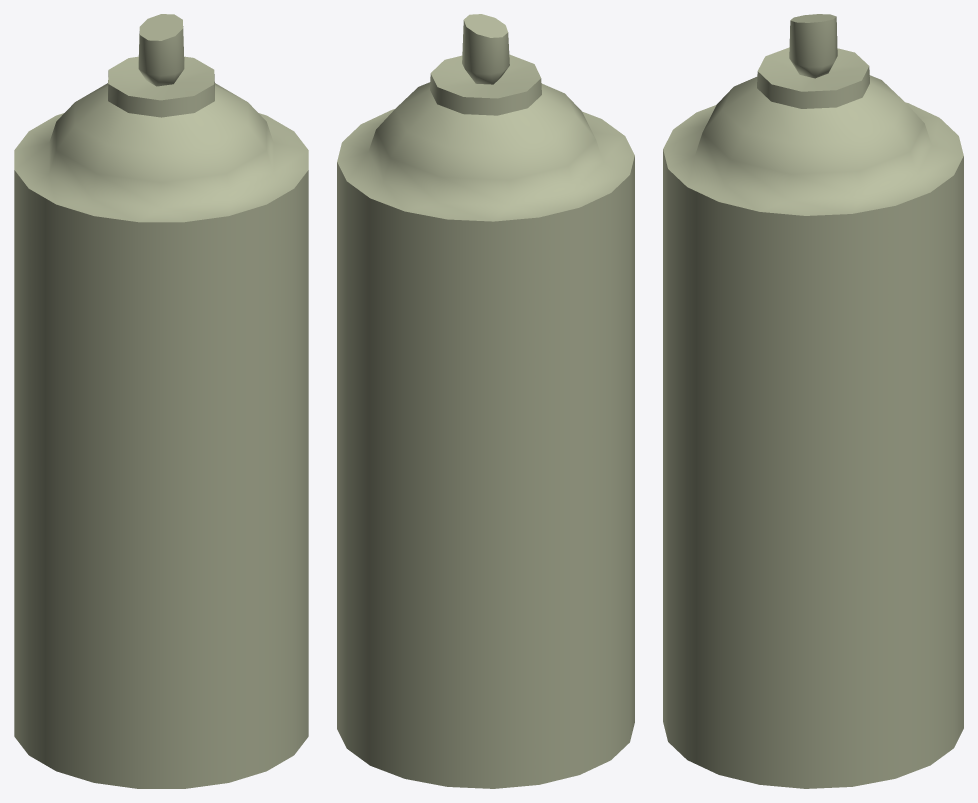
Rendered from SM_SprayCan_01a.FBX.
3 views of the same model, side by side, from view 1: azimuth 30°, elevation 25°; view 2: azimuth 150°, elevation 25°; view 3: azimuth 270°, elevation 25° (orthographic).
Visible parts, largest first — view 1: SM_SprayCan_01a_LOD0; view 2: SM_SprayCan_01a_LOD0; view 3: SM_SprayCan_01a_LOD0.
Part boxes in pixels (<box>): SM_SprayCan_01a_LOD0: <box>14,14,308,788</box>; SM_SprayCan_01a_LOD0: <box>337,14,634,788</box>; SM_SprayCan_01a_LOD0: <box>663,14,963,788</box>.
Size of what is drawn, in the model's own units: 7.28 by 19.02 by 7.28.
